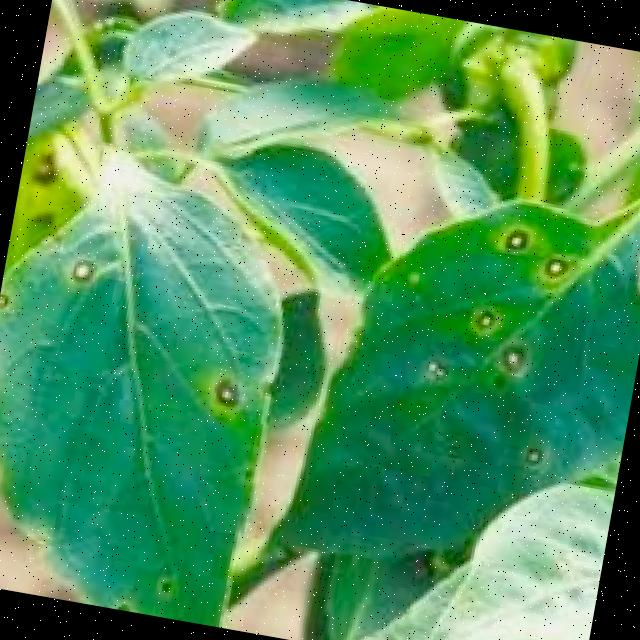leaf spot: (255, 158, 640, 640), (0, 119, 303, 621)
